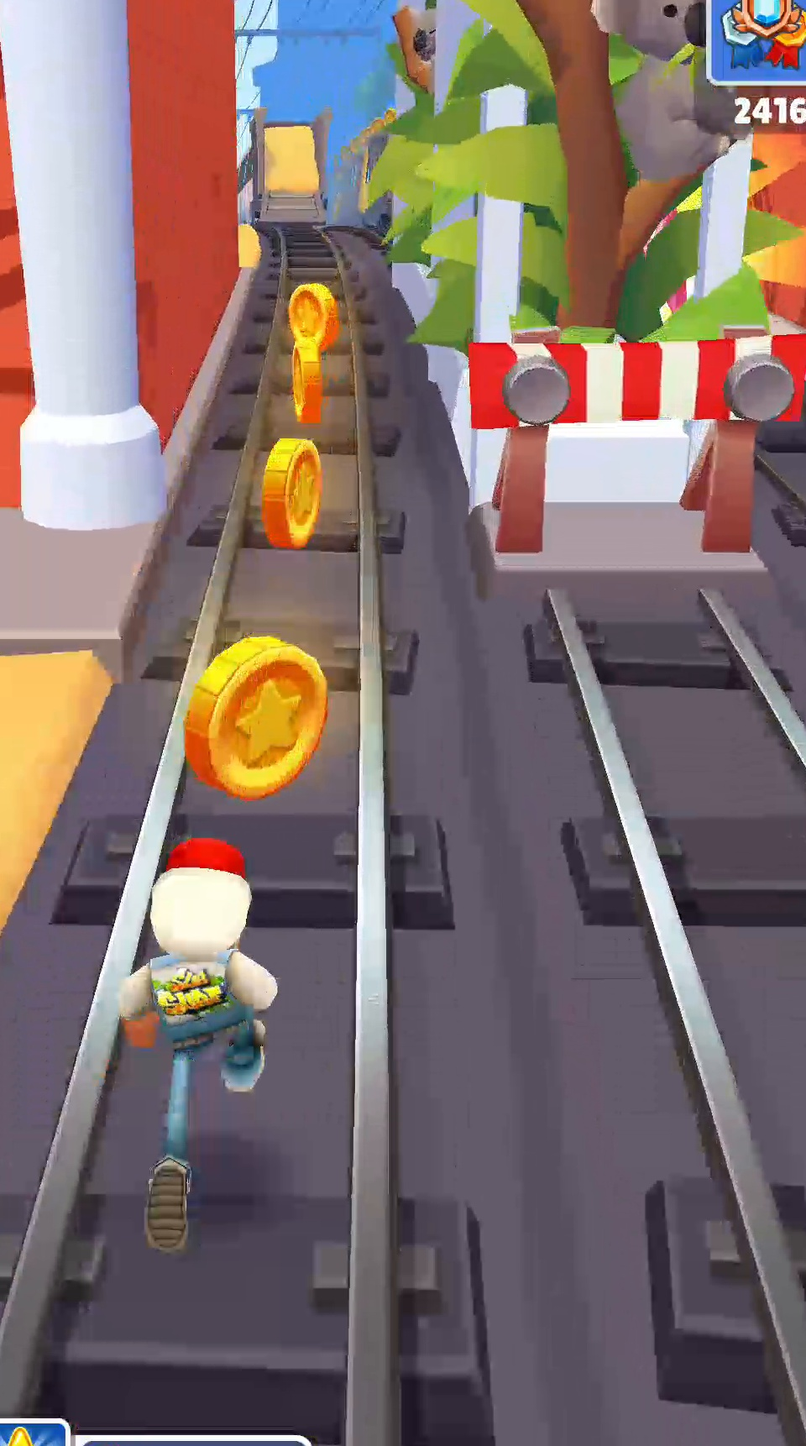block pillar: (361, 0, 805, 583)
climber: (259, 124, 325, 223)
